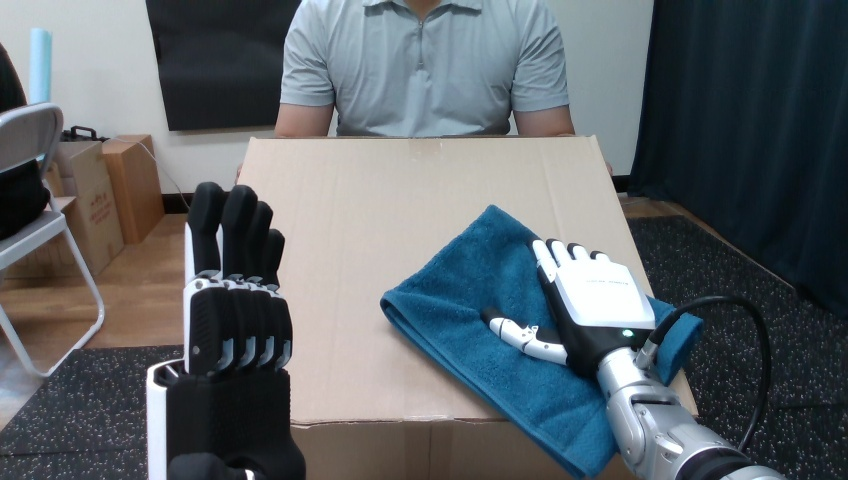left robot hand: (482, 238, 784, 479), (146, 182, 305, 478), (652, 302, 762, 449)
